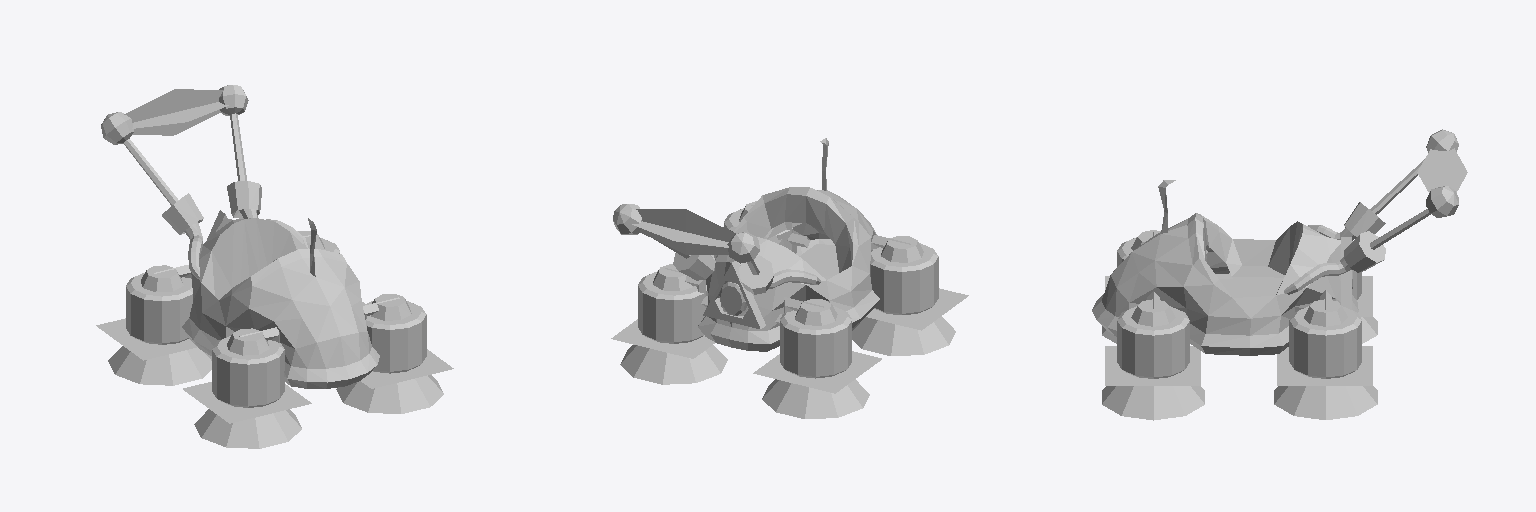
Rendered from Team Trance Anti-Gravity Kart.obj.
3 views of the same model, side by side, from view 1: azimuth 30°, elevation 25°; view 2: azimuth 150°, elevation 25°; view 3: azimuth 270°, elevation 25° (orthographic).
Parts seen in each view (by area): view 1: TeamTranceKart_Anti_Gravity, Anti_Gravity_2, Anti_Gravity_1, Anti_Gravity_3; view 2: TeamTranceKart_Anti_Gravity, Anti_Gravity_2, Anti_Gravity_1, Anti_Gravity_3; view 3: TeamTranceKart_Anti_Gravity, Anti_Gravity_2, Anti_Gravity_1, Anti_Gravity_3.
Part boxes in pixels (x1,y1,x2,y2): TeamTranceKart_Anti_Gravity: (101, 85, 426, 407); Anti_Gravity_2: (108, 346, 443, 448); Anti_Gravity_1: (96, 302, 453, 423); Anti_Gravity_3: (124, 89, 228, 135); TeamTranceKart_Anti_Gravity: (613, 138, 938, 378); Anti_Gravity_2: (620, 316, 955, 418); Anti_Gravity_1: (611, 288, 968, 393); Anti_Gravity_3: (632, 209, 735, 254); TeamTranceKart_Anti_Gravity: (1092, 129, 1458, 378); Anti_Gravity_2: (1102, 317, 1377, 420); Anti_Gravity_1: (1105, 276, 1372, 385); Anti_Gravity_3: (1417, 148, 1467, 192).
Size of the model in its own units: 26.58 by 22.98 by 36.64.